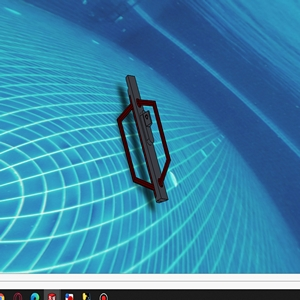submarine: (118, 73, 173, 203)
